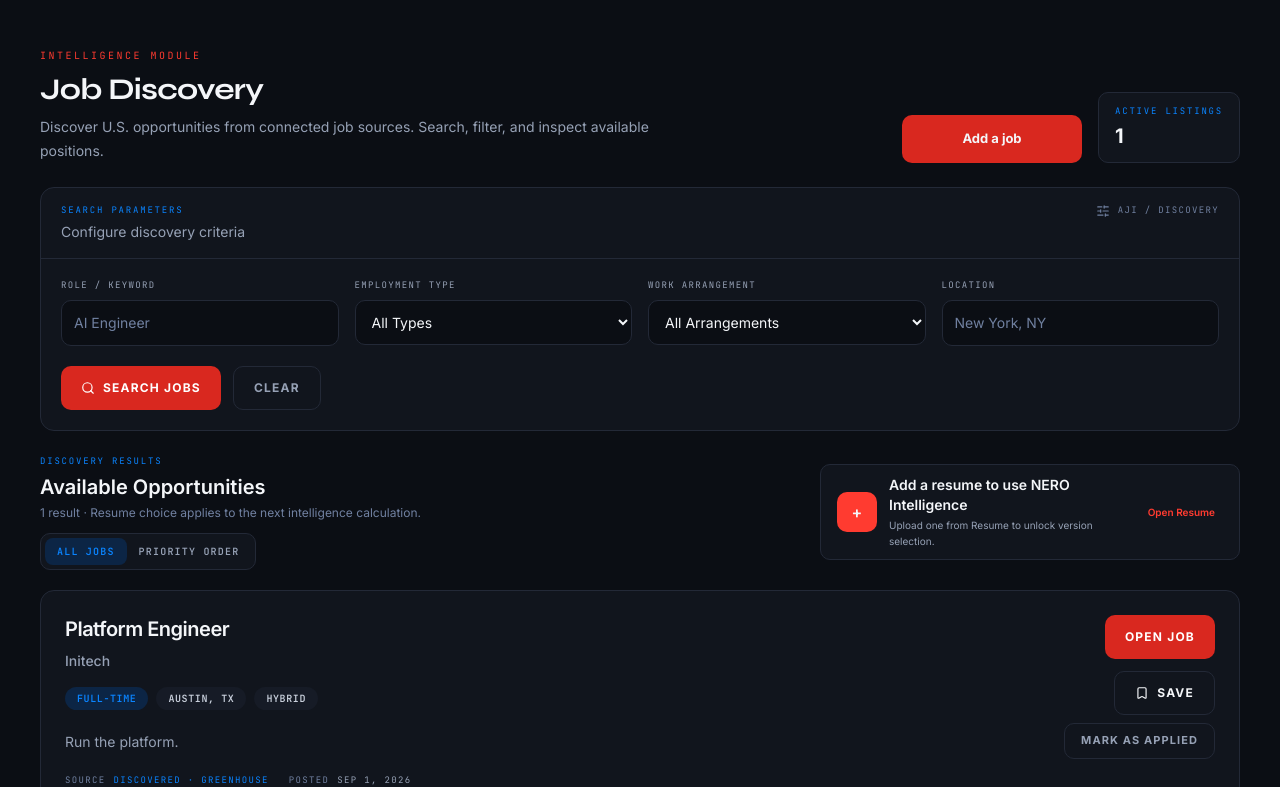
Scenario: Jobs page — search flow (AJI-023 Job Search) › opens a job from the results and shows its full details
Click the button with aria-label "Open job workflow for Platform Engineer". click: (1160, 636)
box: [1105, 614, 1215, 658]
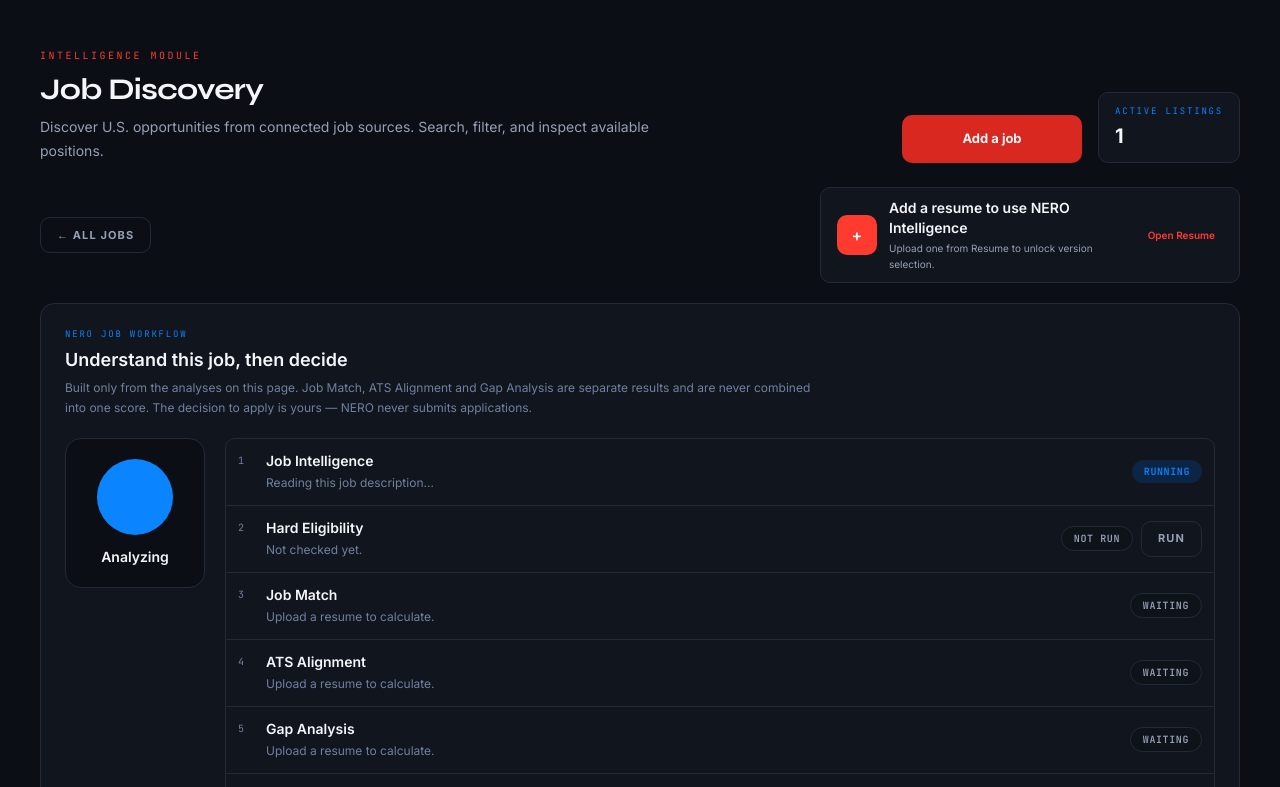
Expected: the text "Search Parameters" is gone
Expected: the button "← All jobs" is shown, [40, 217, 151, 253]
